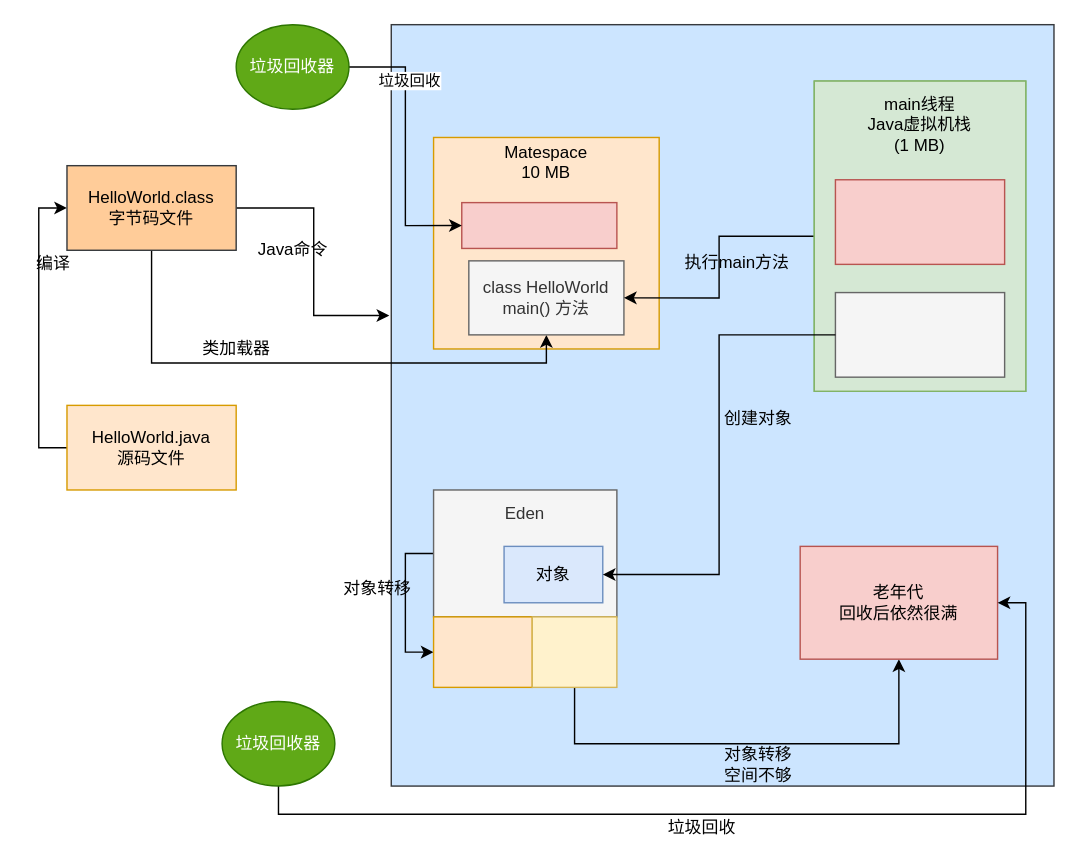
This 1079x867 diagram has some shape labels left out. Each missing label, with the centre of its shape:
main() 栈帧: pixel 919 334
S0: pixel 482 651
S1: pixel 574 651
一大堆类塞满了: pixel 538 224
大量方法 栈帧: pixel 919 221
